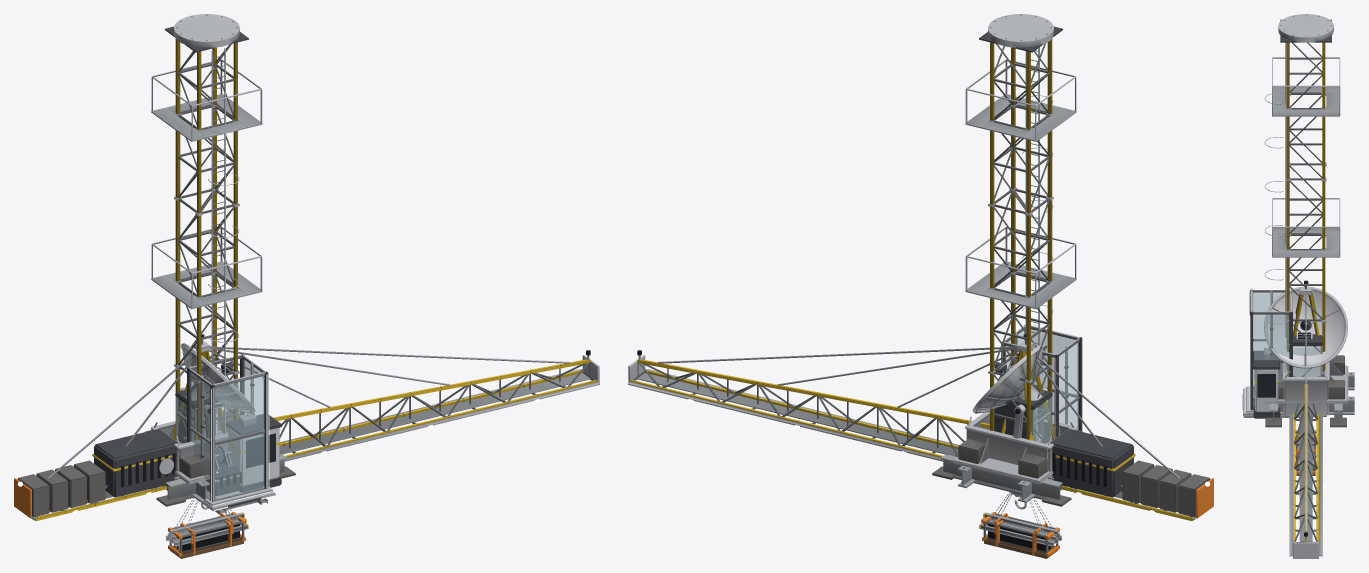
Rendered from rooftop321.glb.
The picture shows the model from 3 angles, left to right: view 1: azimuth 30°, elevation 25°; view 2: azimuth 150°, elevation 25°; view 3: azimuth 270°, elevation 25°; orthographic projection. The views are drawn at different scales.
Parts seen in each view (by area): view 1: cr_mast-gal, el_modA-glass, el_modB-glass, cr_mast-steel, cr_mast-paintY, cr_top-gal, cr_top-steel, cr_top-paintY, cr_top-comp, cr_top-conc, el_modA-steel, el_modA-comp (+6 smaller); view 2: cr_mast-gal, cr_mast-paintY, cr_mast-steel, cr_top-paintY, cr_top-gal, cr_top-steel, cr_top-comp, cr_top-conc, el_modA-glass, el_modB-glass, cr_skip-paintW, cr_mast-conc (+8 smaller); view 3: cr_mast-gal, cr_mast-steel, rd_head-paintW, cr_mast-paintY, cr_top-gal, cr_top-steel, el_modA-glass, el_modB-glass, cr_top-paintY, cr_skip-paintW, cr_mast-conc, rd_head-steel (+12 smaller).
Part boxes in pixels (bbox=[...]): cr_mast-gal: bbox=[151, 14, 286, 502]; el_modA-glass: bbox=[190, 360, 264, 498]; el_modB-glass: bbox=[190, 360, 263, 498]; cr_mast-steel: bbox=[151, 14, 262, 484]; cr_mast-paintY: bbox=[175, 39, 237, 439]; cr_top-gal: bbox=[31, 362, 595, 520]; cr_top-steel: bbox=[48, 339, 599, 478]; cr_top-paintY: bbox=[34, 350, 597, 520]; cr_top-comp: bbox=[94, 414, 282, 497]; cr_top-conc: bbox=[17, 460, 105, 516]; el_modA-steel: bbox=[189, 354, 267, 501]; el_modA-comp: bbox=[187, 354, 268, 501]; cr_mast-gal: bbox=[941, 14, 1076, 502]; cr_mast-paintY: bbox=[990, 39, 1052, 441]; cr_mast-steel: bbox=[953, 14, 1076, 484]; cr_top-paintY: bbox=[630, 350, 1193, 520]; cr_top-gal: bbox=[632, 362, 1196, 520]; cr_top-steel: bbox=[628, 339, 1179, 478]; cr_top-comp: bbox=[1034, 385, 1133, 497]; cr_top-conc: bbox=[1122, 460, 1210, 516]; el_modA-glass: bbox=[1006, 330, 1078, 434]; el_modB-glass: bbox=[1006, 330, 1078, 434]; cr_skip-paintW: bbox=[966, 415, 1066, 479]; cr_mast-conc: bbox=[932, 430, 1082, 506]; cr_mast-gal: bbox=[1269, 14, 1354, 422]; cr_mast-steel: bbox=[1264, 14, 1348, 403]; rd_head-paintW: bbox=[1266, 289, 1345, 365]; cr_mast-paintY: bbox=[1286, 42, 1325, 376]; cr_top-gal: bbox=[1264, 348, 1317, 542]; cr_top-steel: bbox=[1268, 286, 1322, 558]; el_modA-glass: bbox=[1254, 293, 1288, 406]; el_modB-glass: bbox=[1254, 293, 1288, 405]; cr_top-paintY: bbox=[1254, 294, 1319, 542]; cr_skip-paintW: bbox=[1283, 380, 1328, 416]; cr_mast-conc: bbox=[1265, 355, 1346, 427]; rd_head-steel: bbox=[1264, 286, 1348, 368].
Bounding box in the file's own units: 17.23 × 14.92 × 3.47.
